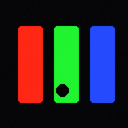2 circle: (56, 84, 68, 96)
